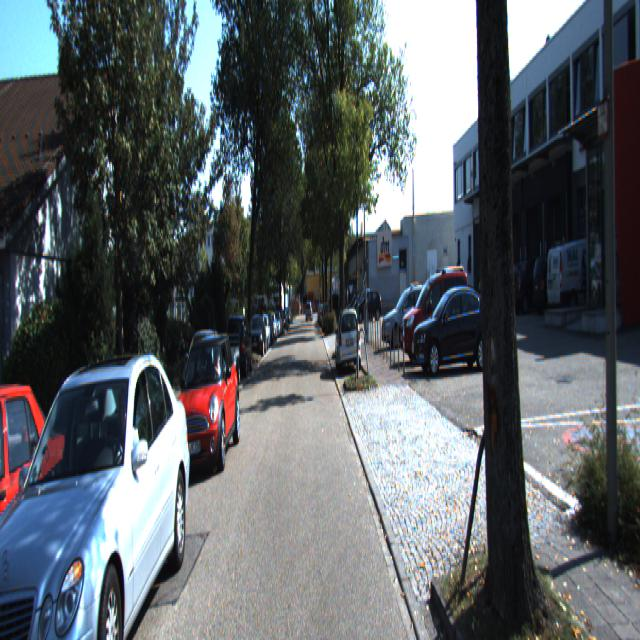Car: (0, 352, 195, 638), (0, 357, 71, 628), (170, 323, 240, 471), (409, 282, 502, 373), (400, 262, 475, 364), (544, 232, 622, 319), (335, 304, 362, 377), (248, 313, 266, 359)
